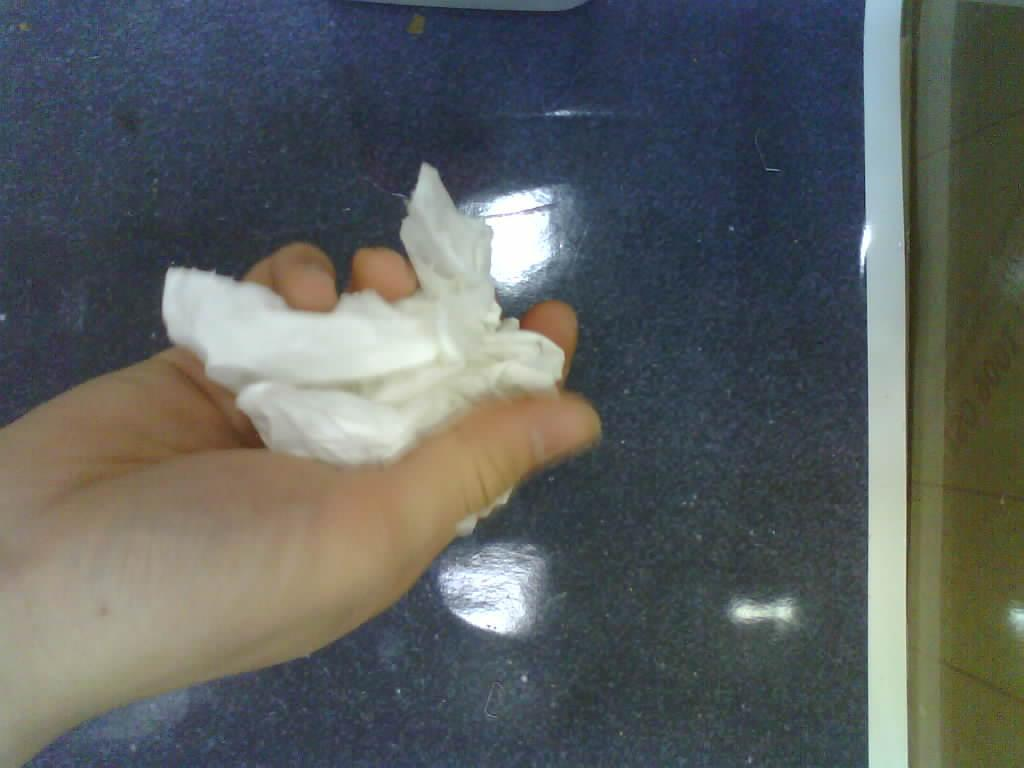paper: (165, 165, 567, 555)
